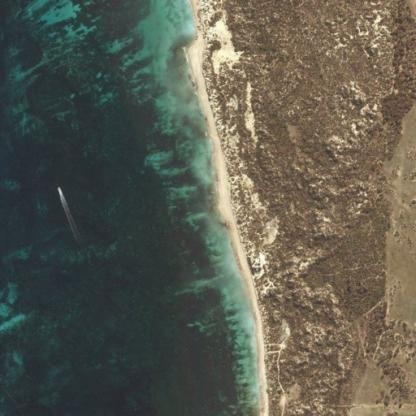ship: (47, 179, 68, 199)
